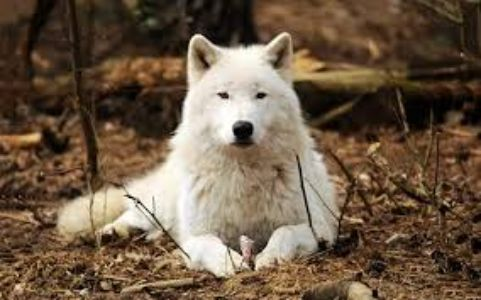wolf: (90, 34, 353, 272)
